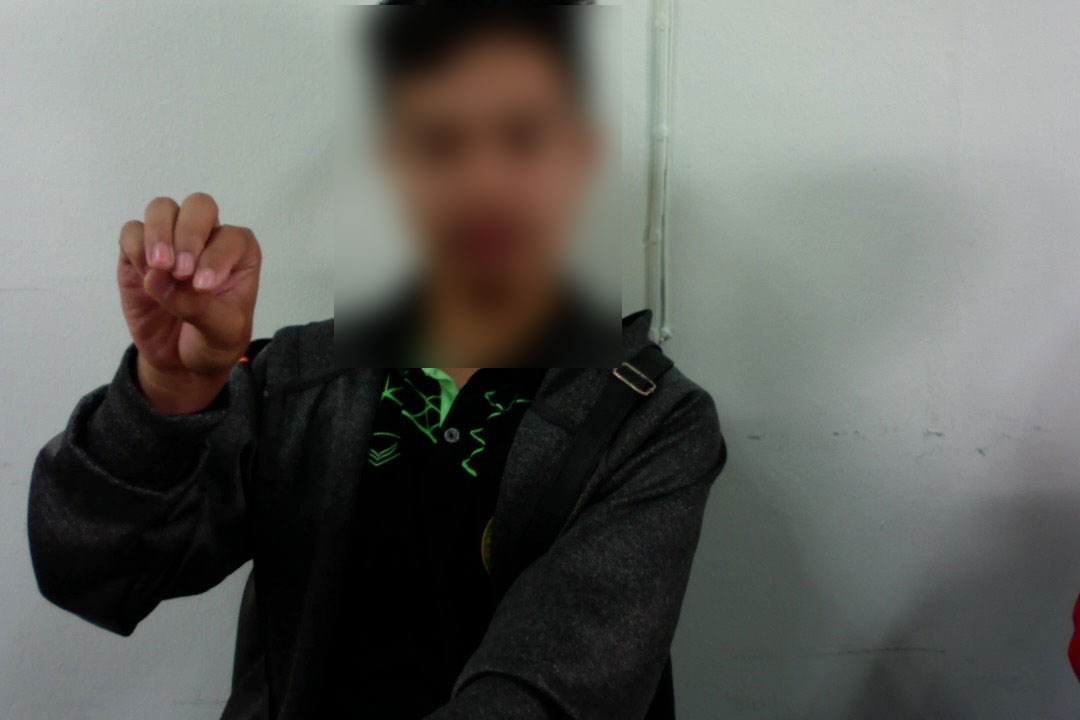mor: (102, 187, 265, 394)
